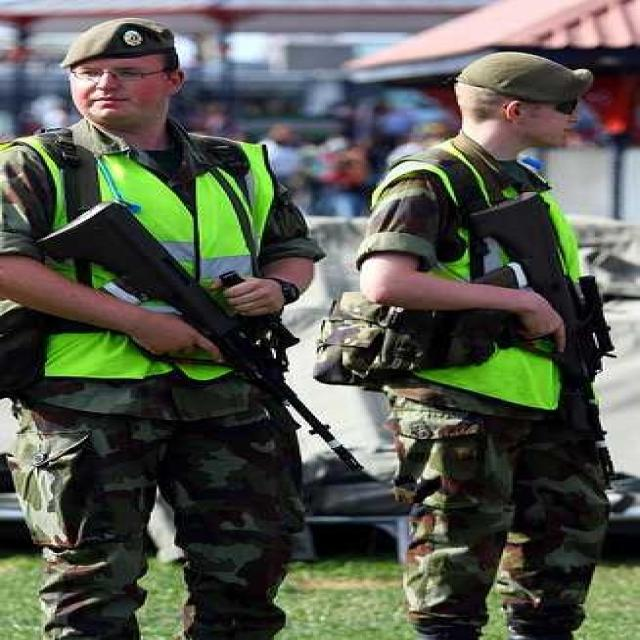RifleTel: (24, 185, 372, 500), (452, 171, 622, 442)
